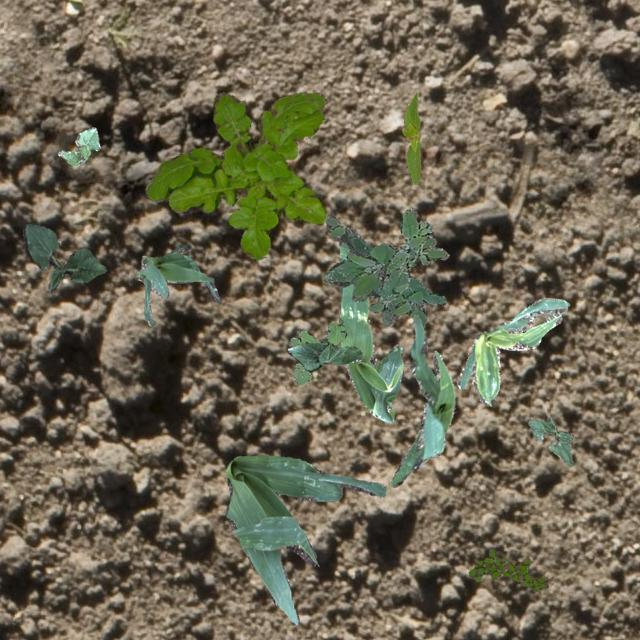crop: (224, 453, 384, 624), (455, 298, 567, 404), (338, 240, 402, 422), (389, 314, 454, 486), (134, 242, 220, 326), (21, 222, 106, 292), (286, 342, 362, 371), (528, 416, 572, 464), (400, 90, 420, 184), (58, 126, 98, 164)
weed: (144, 92, 326, 258), (322, 212, 444, 326), (377, 208, 448, 302), (288, 322, 346, 384), (468, 548, 548, 590)
